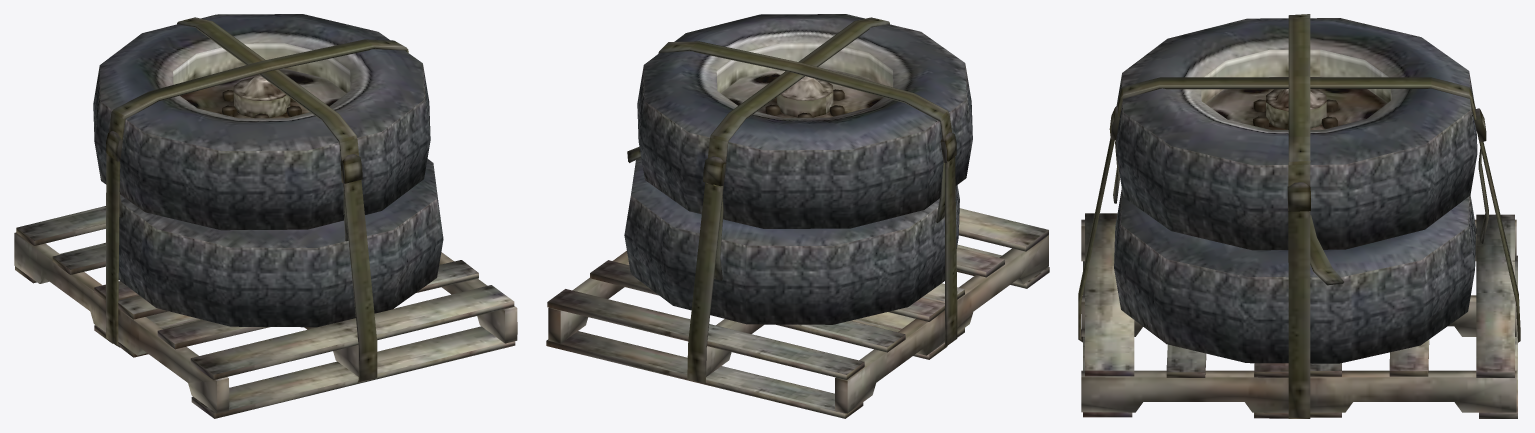
File: tirestack3.glb
The picture shows the model from 3 angles, left to right: view 1: azimuth 30°, elevation 25°; view 2: azimuth 150°, elevation 25°; view 3: azimuth 270°, elevation 25°; orthographic projection. The views are drawn at different scales.
Visible parts, largest first — view 1: 0_tirestack, 1_Wood_PalletCrate001a; view 2: 0_tirestack, 1_Wood_PalletCrate001a; view 3: 0_tirestack, 1_Wood_PalletCrate001a.
Boxes of the visible parts, x1,y1,x2,y2 form: 0_tirestack: (93, 14, 443, 382); 1_Wood_PalletCrate001a: (14, 206, 517, 418); 0_tirestack: (624, 14, 972, 383); 1_Wood_PalletCrate001a: (546, 208, 1049, 418); 0_tirestack: (1078, 14, 1520, 418); 1_Wood_PalletCrate001a: (1081, 213, 1517, 418).
Bounding box in the file's own units: 1.27 × 0.945 × 1.45.
Materials: 2 (2 with a texture image).
